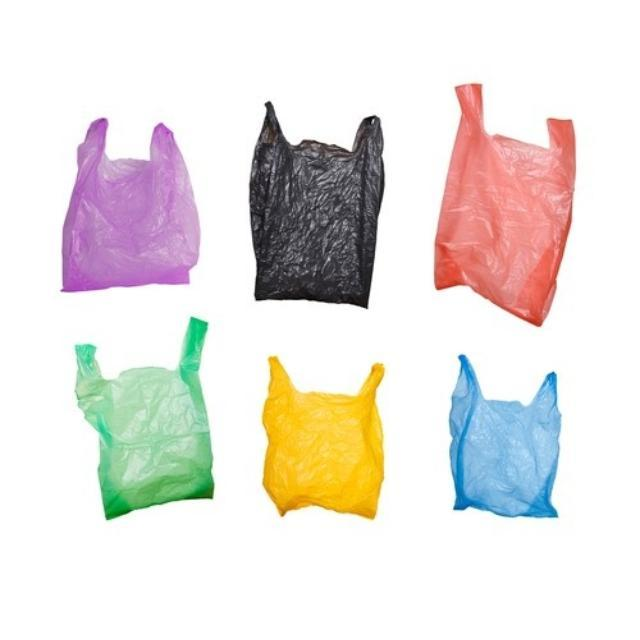plastic: (435, 85, 575, 325), (249, 102, 383, 307), (76, 319, 212, 518), (62, 118, 199, 291), (262, 357, 383, 518), (449, 356, 560, 516)
